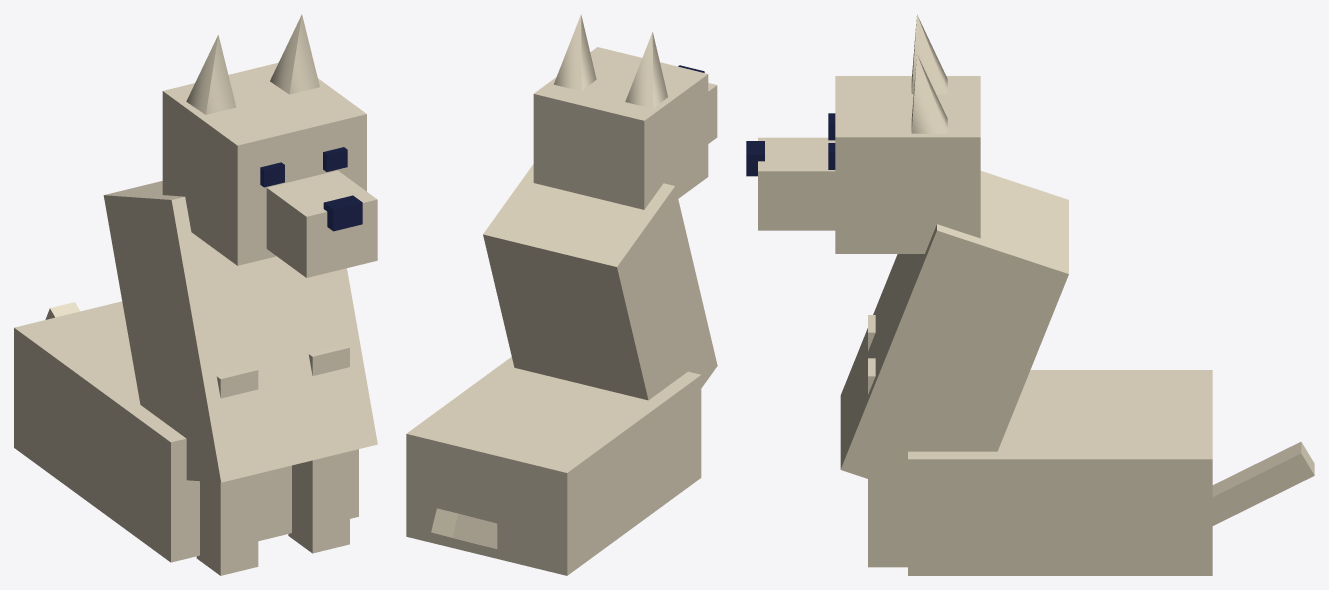
Rendered from dog.glb.
3 views of the same model, side by side, from view 1: azimuth 30°, elevation 25°; view 2: azimuth 150°, elevation 25°; view 3: azimuth 270°, elevation 25° (orthographic). The views are drawn at different scales.
Parts seen in each view (by area): view 1: dog; view 2: dog; view 3: dog.
Boxes of the visible parts, x1,y1,x2,y2 form: dog: [14, 14, 377, 575]; dog: [406, 14, 717, 575]; dog: [746, 14, 1314, 575].
Bounding box in the file's own units: 0.9 × 2.39 × 2.43.
